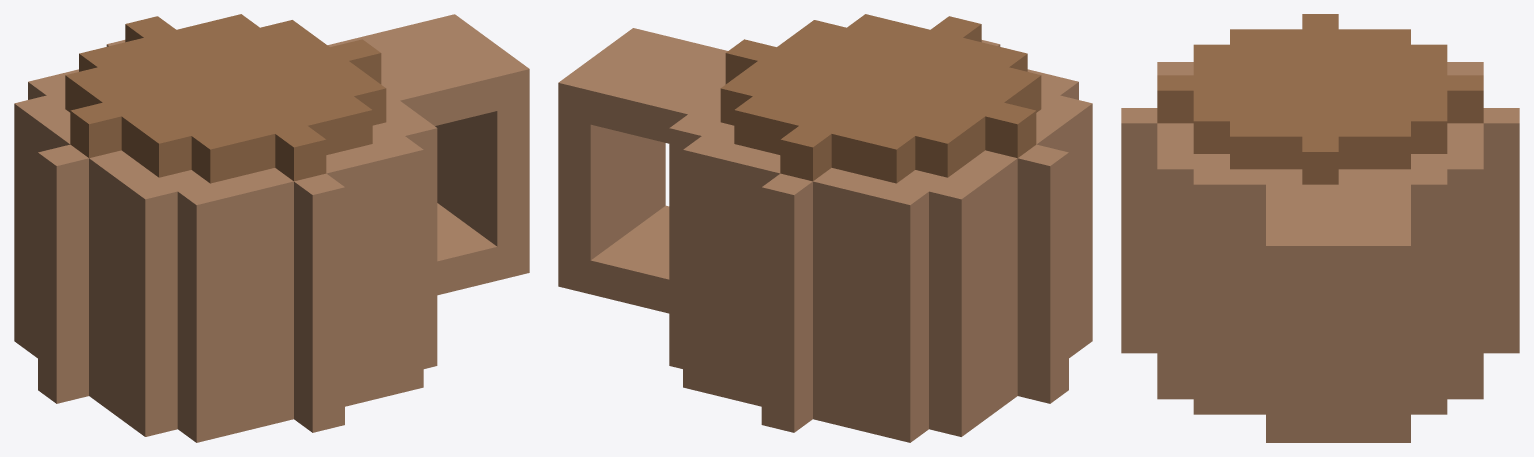
Rendered from food-14.glb.
The picture shows the model from 3 angles, left to right: view 1: azimuth 30°, elevation 25°; view 2: azimuth 150°, elevation 25°; view 3: azimuth 270°, elevation 25°; orthographic projection. The views are drawn at different scales.
Parts seen in each view (by area): view 1: Espresso cup; view 2: Espresso cup; view 3: Espresso cup.
Boxes of the visible parts, box(x1,y1,x2,y2) form: Espresso cup: box(14, 14, 529, 442); Espresso cup: box(558, 14, 1092, 442); Espresso cup: box(1121, 14, 1519, 442).
Bounding box in the file's own units: 1.12 × 0.64 × 0.88.
